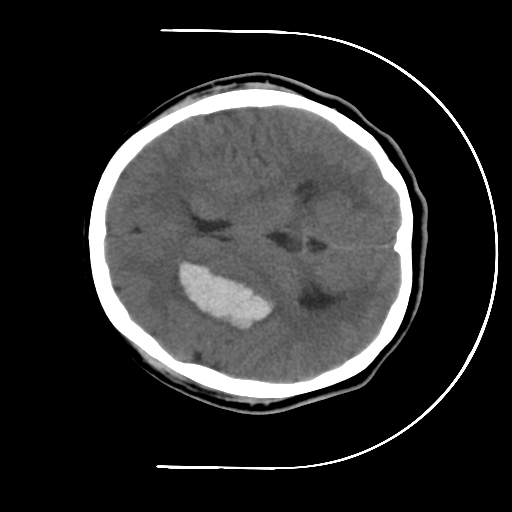a: (153, 245, 290, 347)
